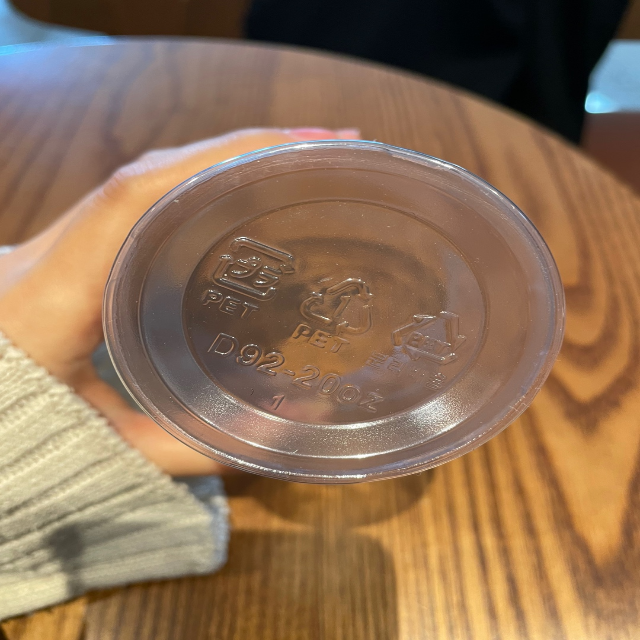pet: (194, 227, 298, 323), (368, 304, 473, 394), (290, 267, 382, 357)
